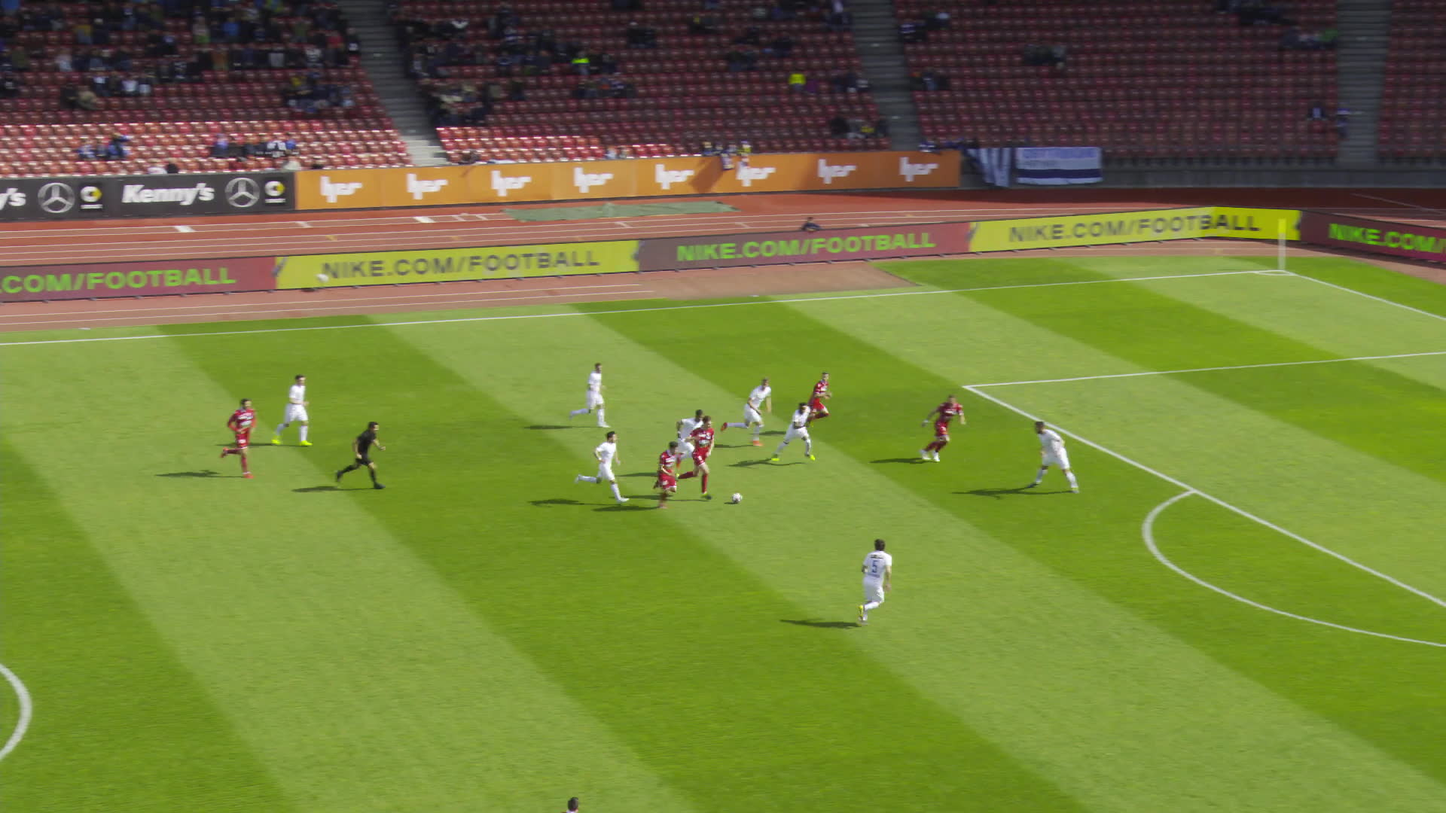ball: (731, 492, 740, 501)
player: (843, 534, 899, 629), (1034, 419, 1081, 497), (917, 393, 968, 464), (725, 378, 778, 446), (642, 438, 688, 508), (584, 431, 625, 504), (225, 396, 261, 477), (683, 416, 717, 494), (574, 362, 612, 428), (279, 376, 312, 449), (780, 402, 817, 463), (809, 370, 839, 431), (677, 408, 707, 460), (561, 793, 582, 812)
referee: (343, 419, 387, 491)
